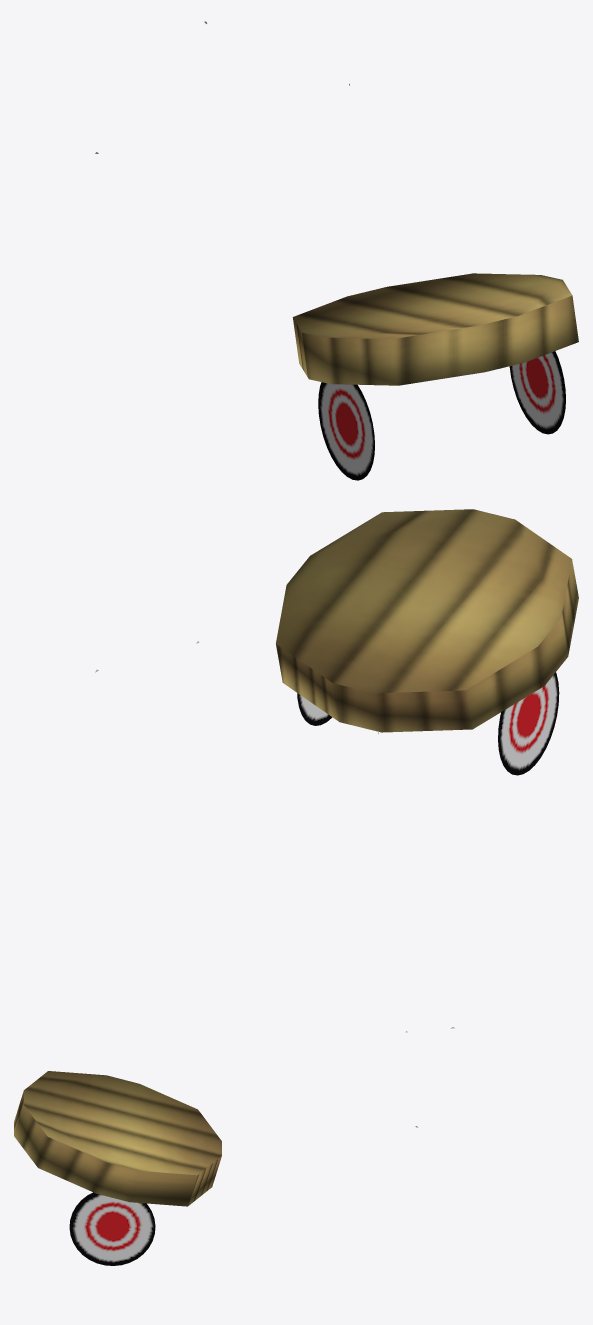
File: helmet_nobre_1.dae
The picture shows the model from 3 angles, top to bottom: view 1: azimuth 30°, elevation 25°; view 2: azimuth 150°, elevation 25°; view 3: azimuth 270°, elevation 25°; orthographic projection. The views are drawn at different scales.
Parts seen in each view (by area): view 1: helmet_nobre_1; view 2: helmet_nobre_1; view 3: helmet_nobre_1.
Part boxes in pixels (left/top/right/bottom): helmet_nobre_1: left=95, top=21, right=578, bottom=480; helmet_nobre_1: left=95, top=509, right=578, bottom=775; helmet_nobre_1: left=14, top=1027, right=454, bottom=1265.
Bounding box in the file's own units: 0.819 × 1.62 × 0.8426.
